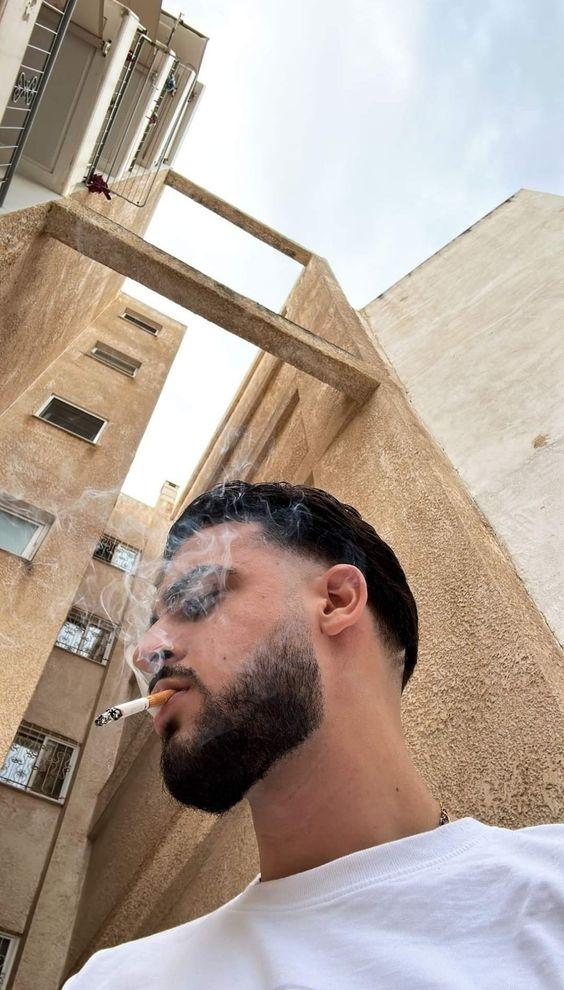cigarette: (95, 686, 177, 727)
